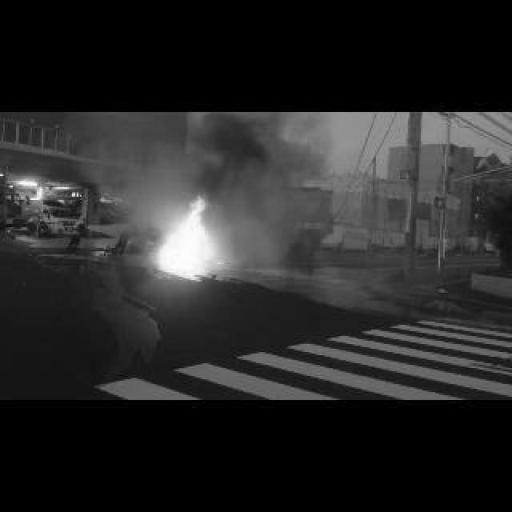smoke: (190, 107, 261, 208), (152, 197, 224, 264)
